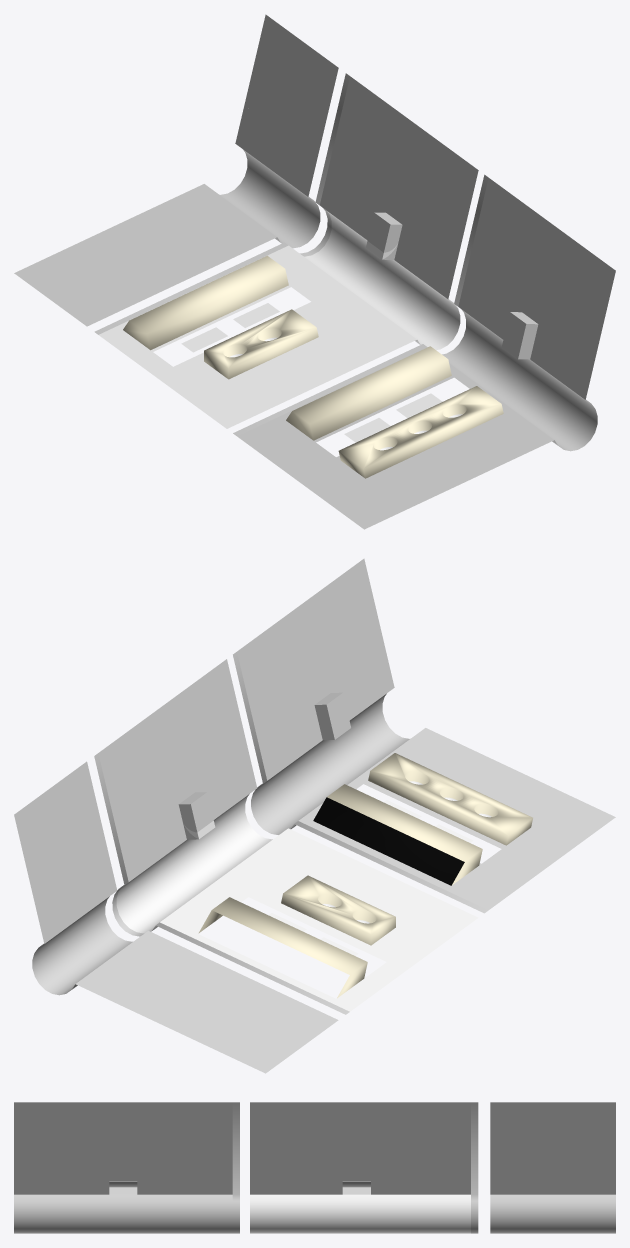
The picture shows the model from 3 angles, top to bottom: view 1: azimuth 30°, elevation 25°; view 2: azimuth 150°, elevation 25°; view 3: azimuth 270°, elevation 25°; orthographic projection. The views are drawn at different scales.
Visible parts, largest first — view 1: Group_002, Group_009, Group#59_001, Group_003, Group_006, Group#71_001, Group_001, Group_008, Group_005, Group_007, Group_004; view 2: Group_002, Group_009, Group#59_001, Group_003, Group_006, Group#71_001, Group_008, Group_001, Group_005, Group_007, Group_004; view 3: Group_003, Group_006, Group_009, Group_002, Group#59_001, Group_008, Group_005, Group_001, Group_007, Group_004.
Part boxes in pixels (<box>): Group_002: <box>99,211,460,428</box>; Group_009: <box>18,18,338,326</box>; Group#59_001: <box>237,313,597,529</box>; Group_003: <box>319,76,478,299</box>; Group_006: <box>458,178,615,399</box>; Group#71_001: <box>286,346,503,478</box>; Group_001: <box>94,73,349,334</box>; Group_008: <box>14,14,269,276</box>; Group_005: <box>233,174,488,436</box>; Group_007: <box>502,312,538,359</box>; Group_004: <box>367,212,402,259</box>; Group_002: <box>116,794,478,1011</box>; Group_009: <box>18,761,338,1070</box>; Group#59_001: <box>255,693,615,910</box>; Group_003: <box>98,659,256,881</box>; Group_006: <box>237,558,394,780</box>; Group#71_001: <box>313,753,532,885</box>; Group_008: <box>14,812,269,1073</box>; Group_001: <box>94,753,349,1014</box>; Group_005: <box>233,652,488,913</box>; Group_007: <box>314,692,350,740</box>; Group_004: <box>178,792,213,839</box>; Group_003: <box>250,1102,470,1194</box>; Group_006: <box>14,1102,232,1194</box>; Group_009: <box>490,1102,608,1233</box>; Group_002: <box>250,1194,470,1233</box>; Group#59_001: <box>14,1194,232,1233</box>; Group_008: <box>608,1102,615,1233</box>; Group_005: <box>232,1102,239,1233</box>; Group_001: <box>471,1102,478,1233</box>; Group_007: <box>109,1169,137,1194</box>; Group_004: <box>342,1169,370,1194</box>.
Bounding box in the file's own units: 39.61 × 29.69 × 95.48.
